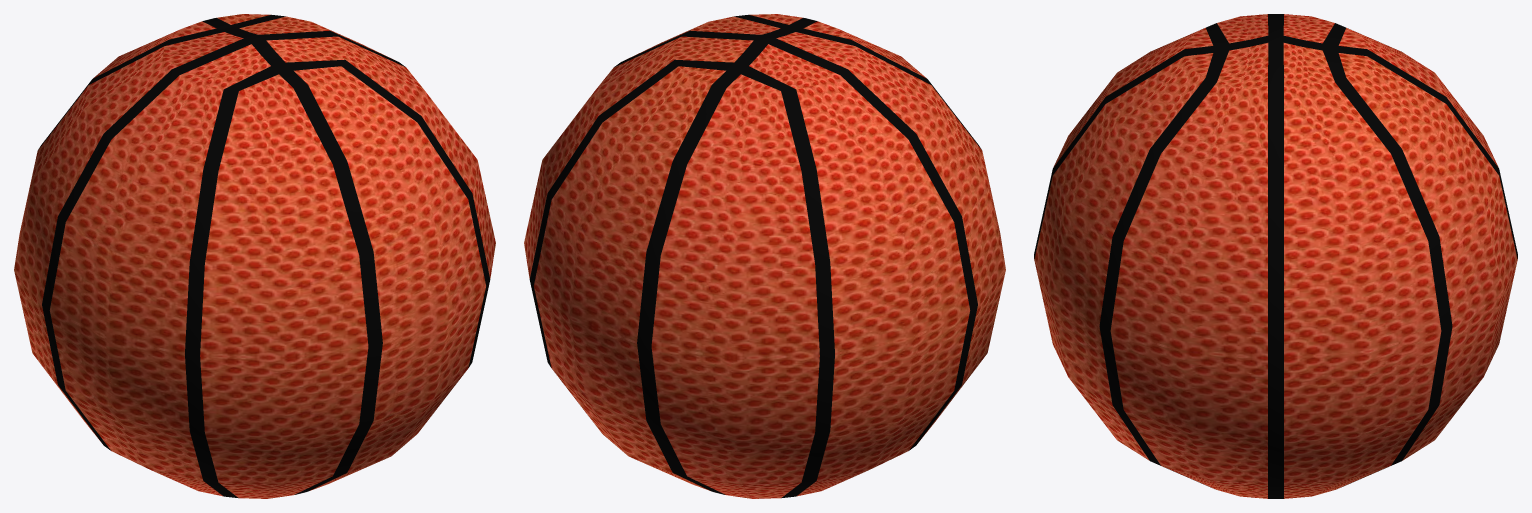
Rendered from basketball.FBX.
The picture shows the model from 3 angles, left to right: view 1: azimuth 30°, elevation 25°; view 2: azimuth 150°, elevation 25°; view 3: azimuth 270°, elevation 25°; orthographic projection.
Visible parts, largest first — view 1: Sphere001; view 2: Sphere001; view 3: Sphere001.
Part boxes in pixels (left/top/right/bottom): Sphere001: left=14, top=14, right=495, bottom=498; Sphere001: left=524, top=14, right=1005, bottom=498; Sphere001: left=1034, top=14, right=1517, bottom=498.
Bounding box in the file's own units: 19.88 × 19.74 × 19.88.
2 materials, 2 textured.
